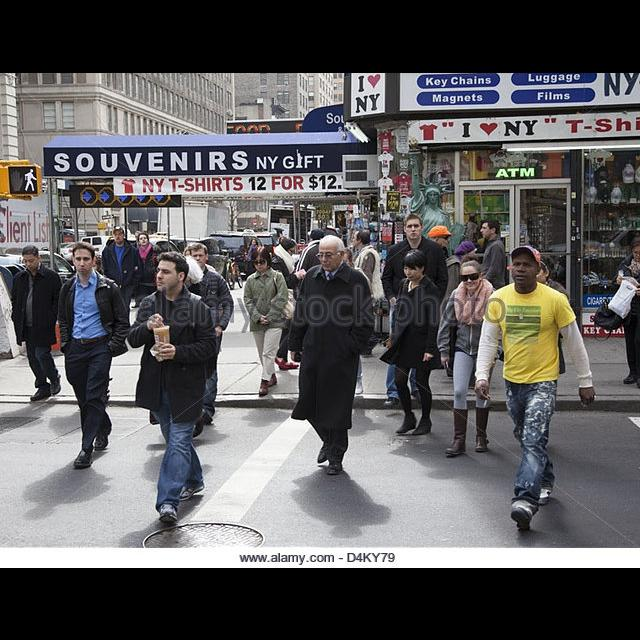head: (154, 252, 190, 296), (512, 246, 544, 286), (318, 235, 346, 272), (72, 244, 96, 276), (404, 250, 428, 282), (460, 260, 484, 290), (529, 256, 553, 284), (23, 244, 43, 272), (190, 243, 210, 269), (252, 248, 272, 272), (404, 214, 424, 238), (430, 226, 450, 248), (458, 242, 478, 262), (480, 220, 500, 240), (282, 237, 298, 260), (353, 228, 371, 248), (137, 232, 151, 248), (310, 229, 326, 243), (114, 228, 126, 244), (250, 238, 258, 246)
person: (474, 243, 598, 532), (124, 252, 220, 524), (284, 236, 376, 477), (55, 240, 133, 470), (379, 212, 449, 408), (436, 260, 504, 458), (165, 241, 235, 427), (378, 250, 446, 438), (464, 217, 524, 367), (512, 255, 572, 405), (9, 245, 65, 403), (243, 245, 299, 397), (441, 239, 487, 377), (296, 228, 340, 372), (344, 228, 388, 356), (420, 222, 456, 371), (266, 236, 306, 370), (100, 224, 144, 342), (131, 230, 163, 310), (244, 237, 262, 283)
